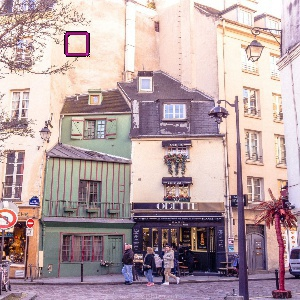square: (63, 29, 92, 60)
